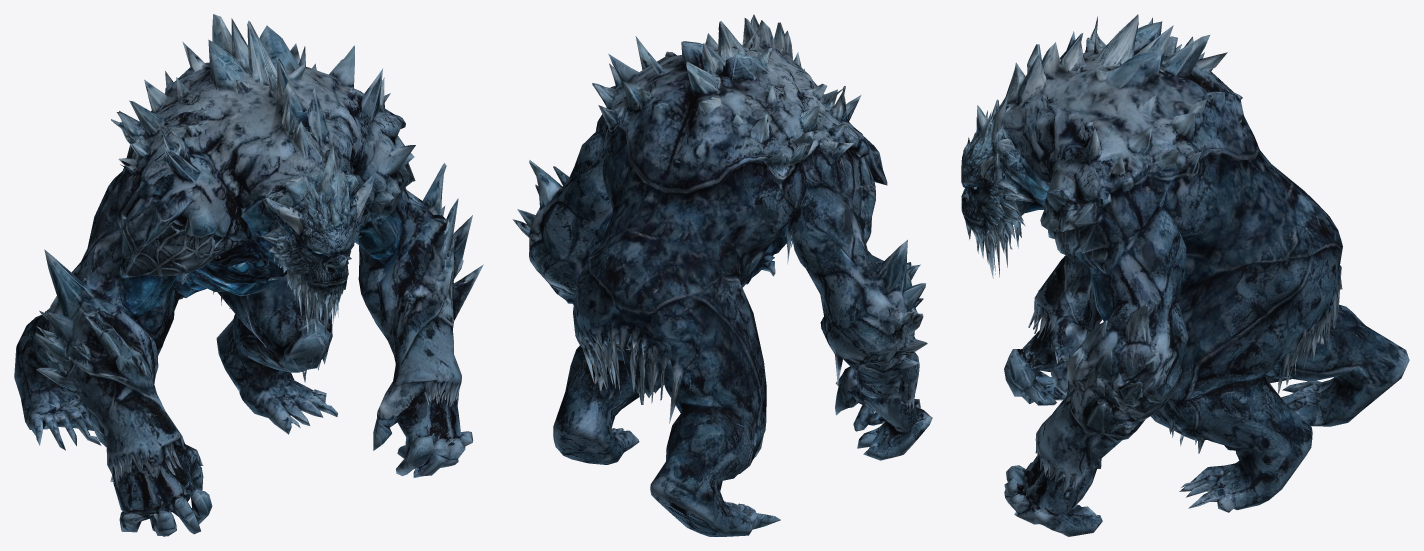
Rendered from mf_saltwarden.glb.
The picture shows the model from 3 angles, left to right: view 1: azimuth 30°, elevation 25°; view 2: azimuth 150°, elevation 25°; view 3: azimuth 270°, elevation 25°; orthographic projection. The views are drawn at different scales.
Parts seen in each view (by area): view 1: Model; view 2: Model; view 3: Model.
Part boxes in pixels (x1,y1,x2,y2): Model: [14, 14, 483, 536]; Model: [512, 14, 932, 536]; Model: [961, 14, 1409, 536].
Size of the model in its own units: 1.9 by 1.88 by 1.7.
Materials: 1 (1 with a texture image).
